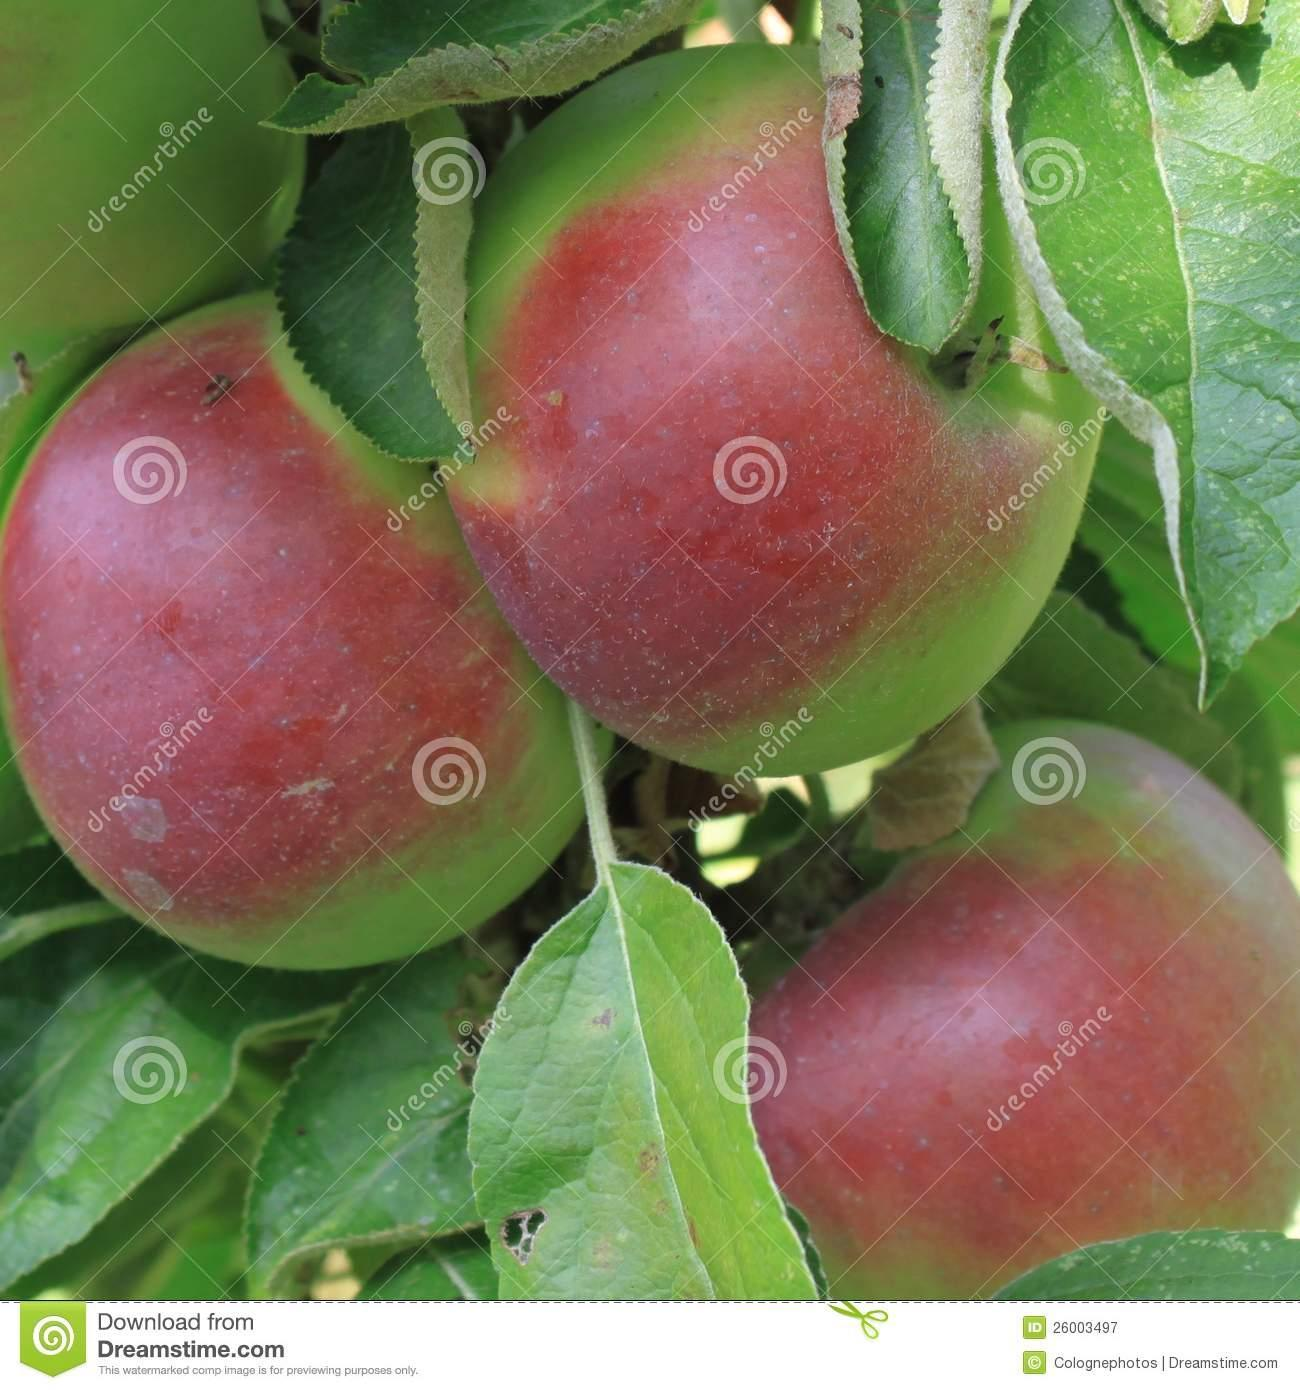apple: (448, 44, 1111, 781), (9, 283, 611, 971), (696, 716, 1300, 1297)
